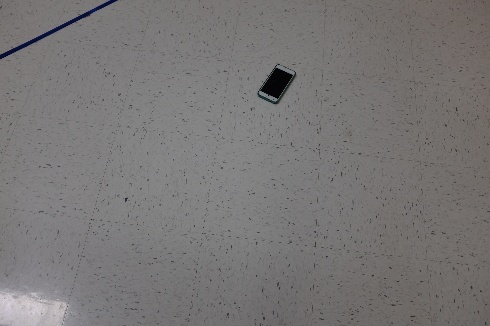phone: (253, 67, 302, 99)
